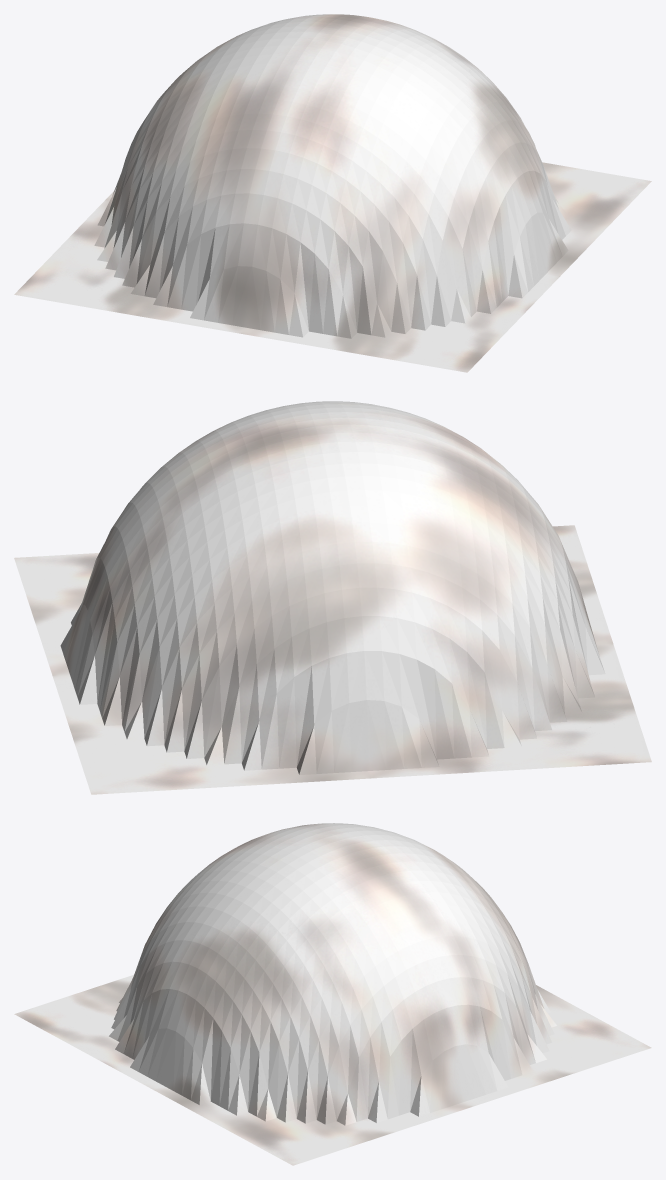
The model's file is clouds.obj.
3 views of the same model, one above another, from view 1: azimuth 30°, elevation 25°; view 2: azimuth 150°, elevation 25°; view 3: azimuth 270°, elevation 25° (orthographic). The views are drawn at different scales.
Visible parts, largest first — view 1: Plane.058_Plane.163; view 2: Plane.058_Plane.163; view 3: Plane.058_Plane.163.
Part boxes in pixels (x1,y1,x2,y2): Plane.058_Plane.163: (14,14,651,372); Plane.058_Plane.163: (14,401,651,794); Plane.058_Plane.163: (14,823,651,1165).
Bounding box in the file's own units: 1578 × 515 × 1578.
1 material, 1 textured.
